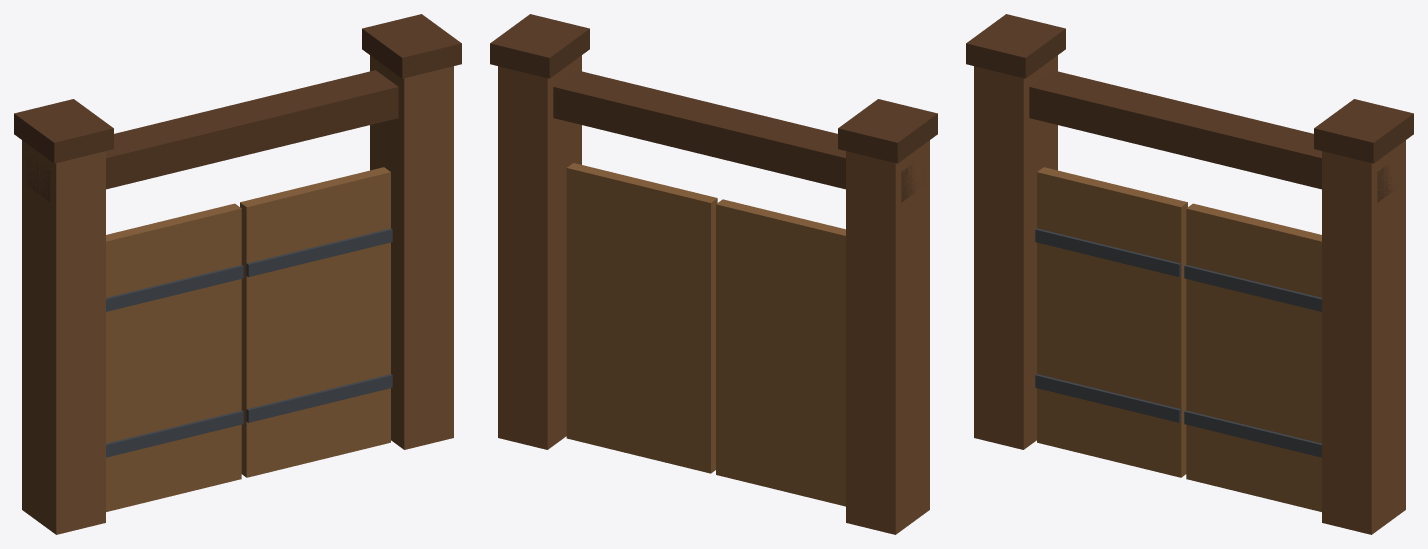
File: gate.glb
3 views of the same model, side by side, from view 1: azimuth 30°, elevation 25°; view 2: azimuth 150°, elevation 25°; view 3: azimuth 330°, elevation 25° (orthographic).
Parts seen in each view (by area): view 1: gate; view 2: gate; view 3: gate.
Part boxes in pixels (<box>): gate: <box>14,14,461,534</box>; gate: <box>490,14,937,534</box>; gate: <box>966,14,1413,534</box>.
Bounding box in the file's own units: 4.1 × 3.8 × 0.7.
